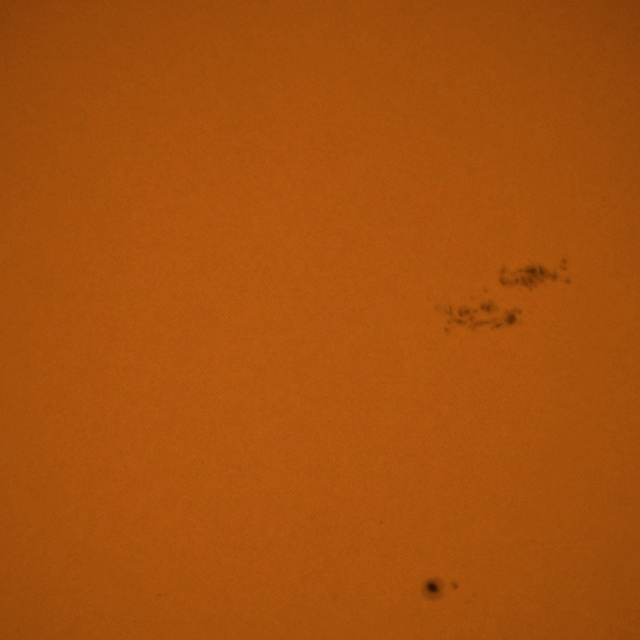sunspot: (514, 256, 578, 293), (423, 578, 460, 600)
